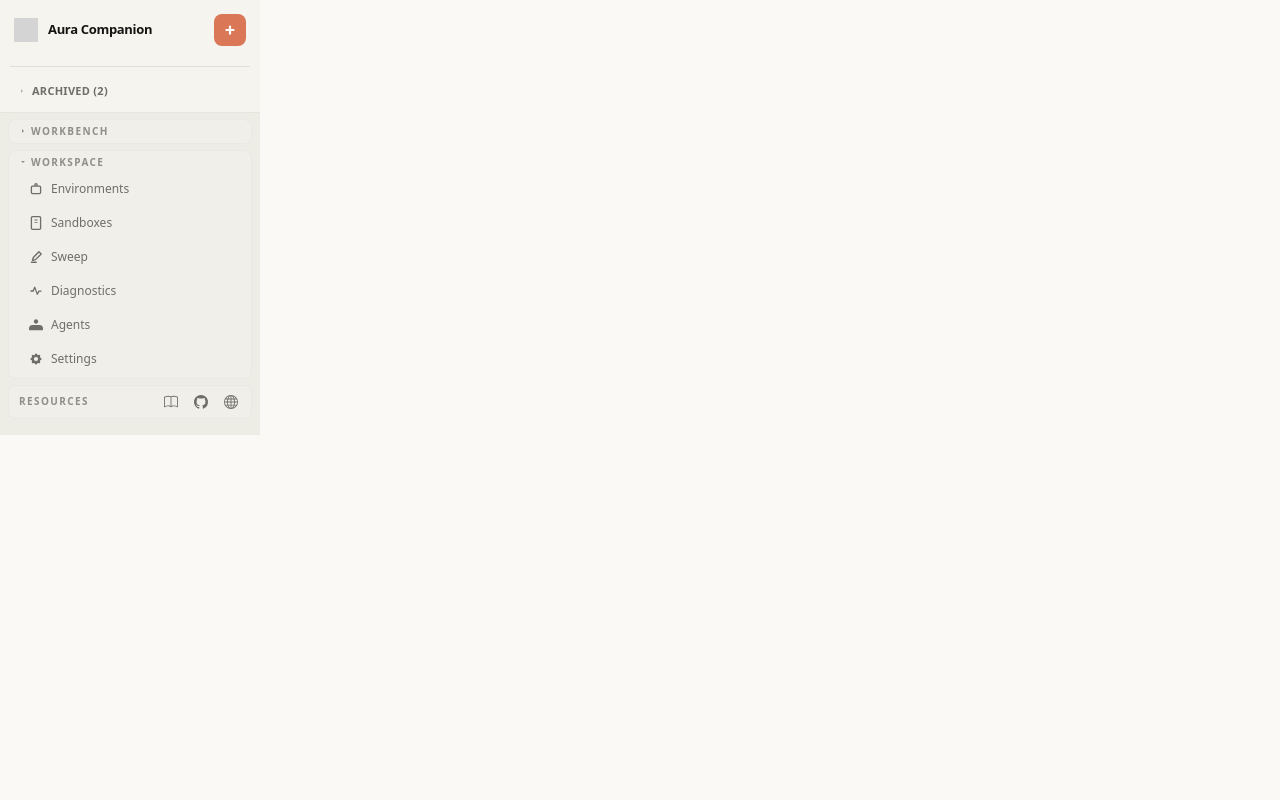
Test: Sidebar › cancelling delete-all closes the modal without deleting
Click the button "Archived (2)". click: point(130, 91)
box: 10,79 -> 250,104
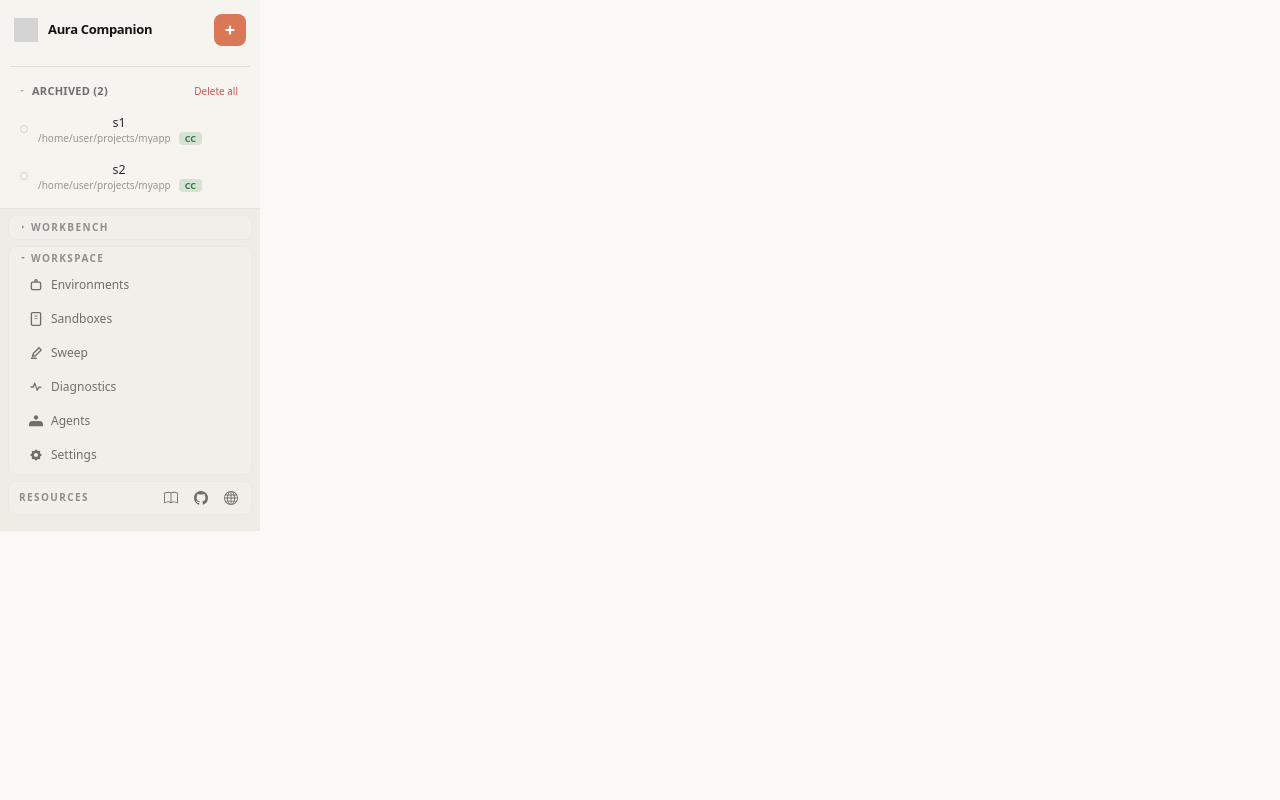
Click the button "Delete all". click: point(216, 91)
box: 186,82 -> 246,101
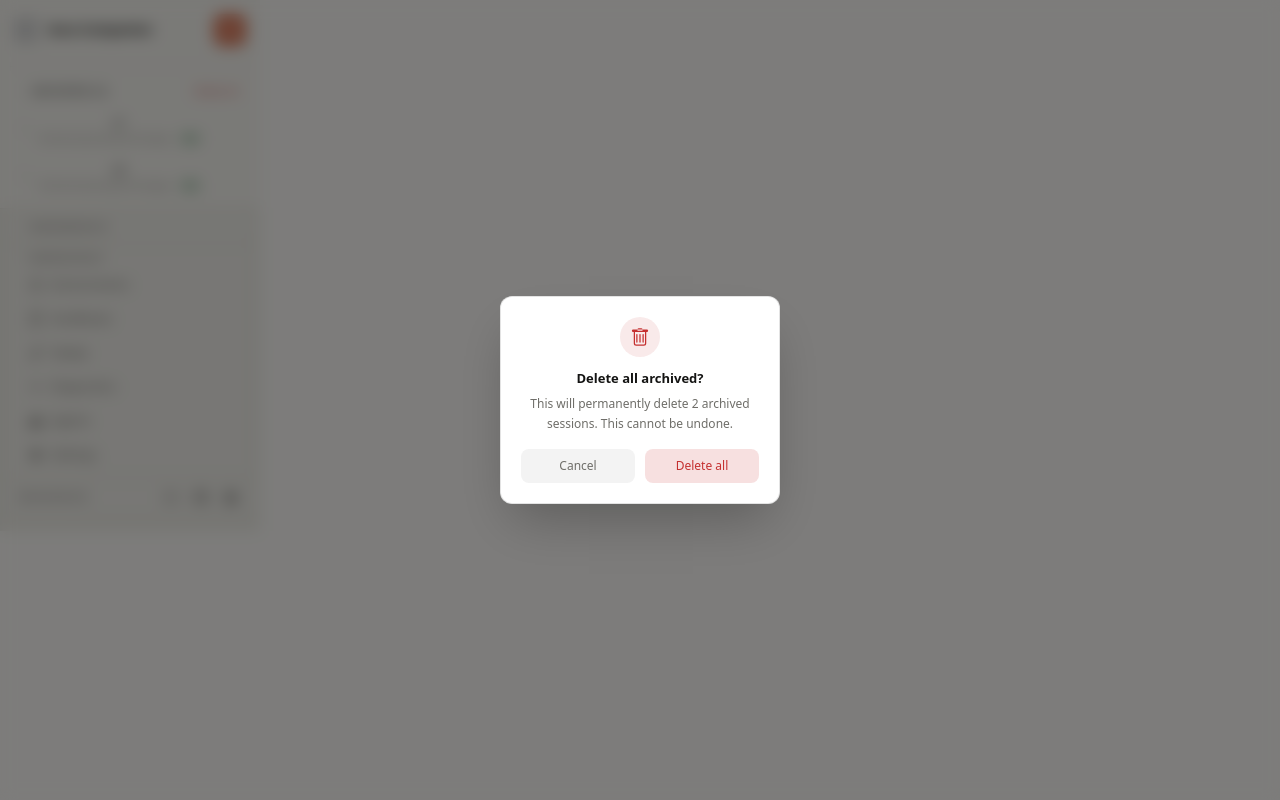
Click the button "Cancel". click: point(578, 466)
box: 521,449 -> 635,483
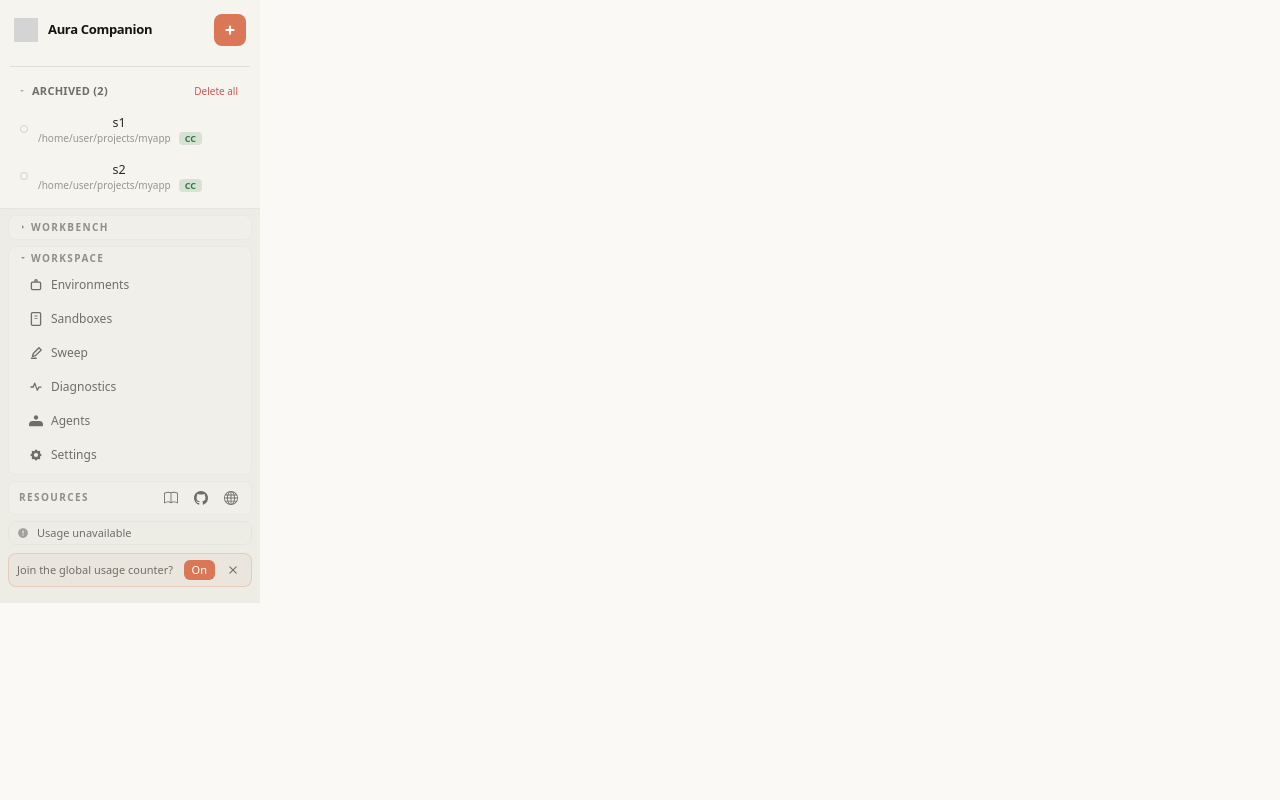
Expected: the text "Delete all archived?" is gone
